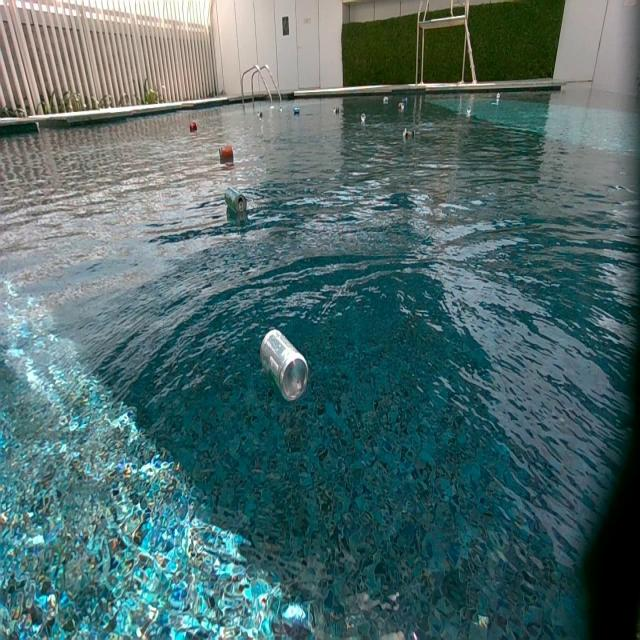Cans: (261, 328, 311, 402), (223, 187, 246, 216), (218, 144, 232, 160), (404, 127, 416, 142), (334, 106, 344, 116), (189, 120, 196, 131), (359, 112, 366, 123), (255, 111, 263, 120), (292, 107, 300, 115), (494, 94, 501, 103), (398, 102, 404, 111), (383, 96, 389, 104), (467, 106, 472, 115), (402, 98, 409, 103)
